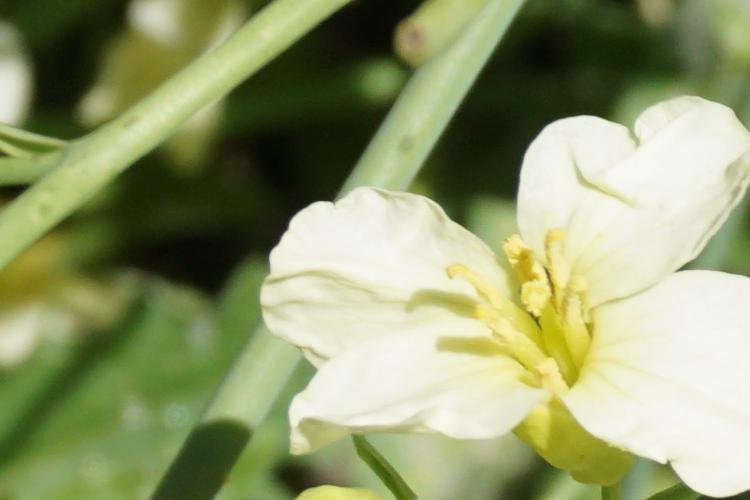white: (297, 101, 744, 492)
